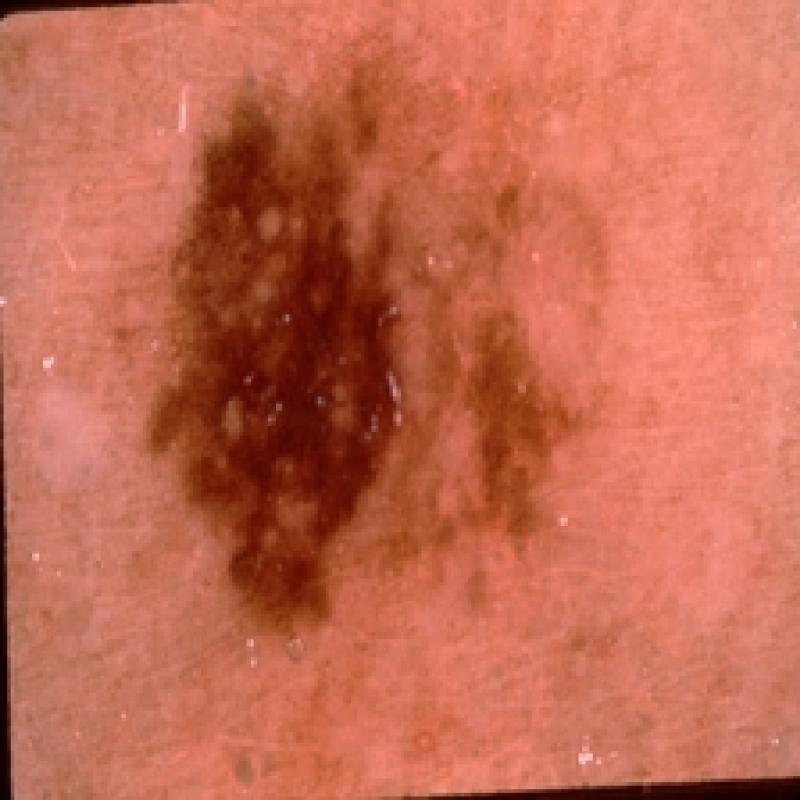malignant: (137, 56, 651, 622)
